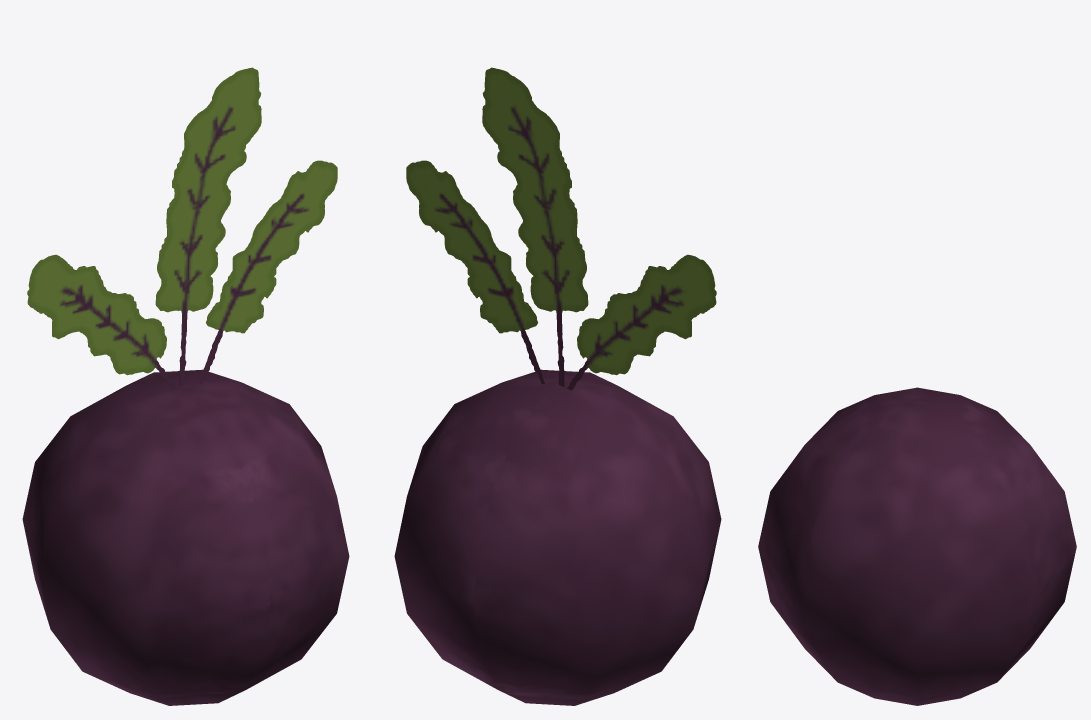
The model's file is Beet.fbx.
3 renders of one model, left to right at view 1: azimuth 30°, elevation 25°; view 2: azimuth 150°, elevation 25°; view 3: azimuth 270°, elevation 25°, orthographic. The views are drawn at different scales.
Visible parts, largest first — view 1: Beet; view 2: Beet; view 3: Beet.
Boxes of the visible parts, left/top/right/bottom form: Beet: left=22, top=67, right=349, bottom=705; Beet: left=394, top=67, right=721, bottom=705; Beet: left=758, top=387, right=1076, bottom=705.
Size of the model in its own units: 28.74 by 50.83 by 24.54.
